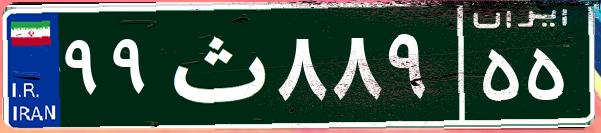5: (475, 38, 525, 113), (525, 38, 570, 115)
8: (273, 28, 330, 110), (330, 28, 385, 110)
9: (385, 28, 445, 110), (57, 26, 110, 107), (110, 28, 158, 105)
ث: (158, 15, 273, 115)
